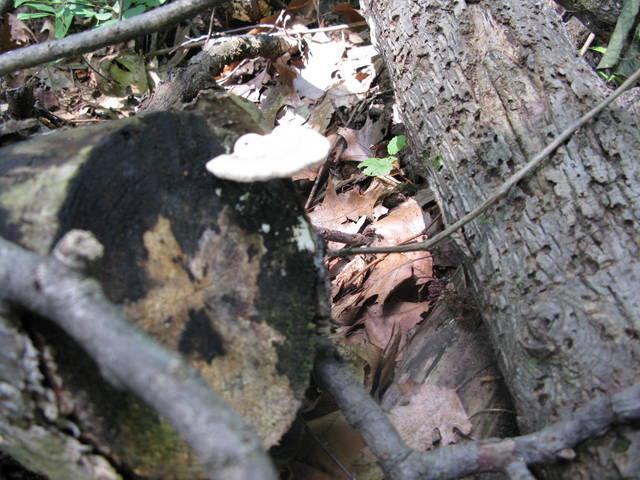poisonous_mushroom: (197, 108, 334, 222)
